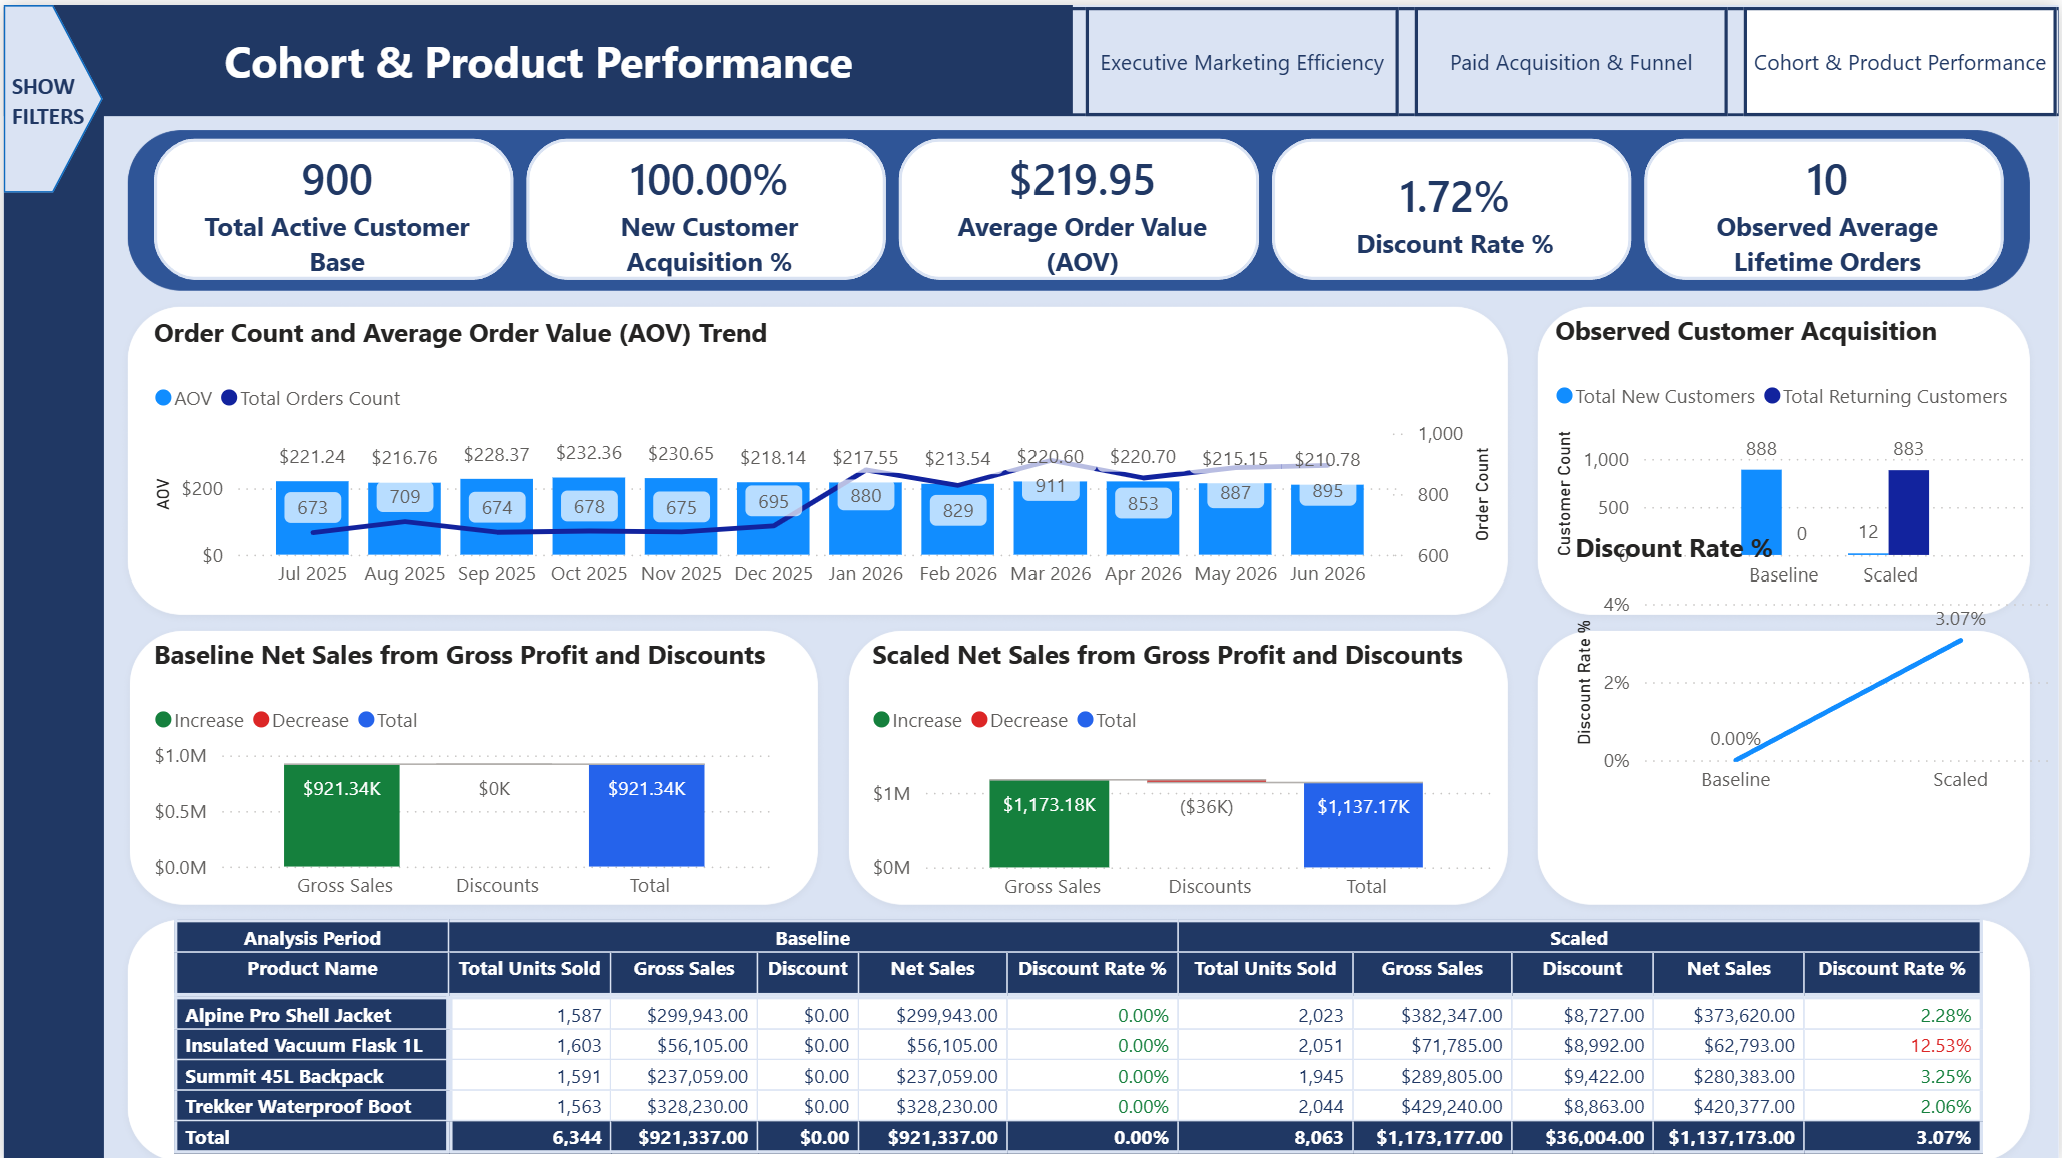

What the dashboard file says about the page in this screenshot:
{"tool":"powerbi","page":{"name":"Cohort & Product Performance","canvas":[1280,720],"ordinal":2},"visuals":[{"type":"clusteredColumnChart","title":"Observed Customer Acquisition","fields":{"Category":["dim_calendar.Analysis Period"],"Y":["_Measures.Total New Customers Acquired","_Measures.Total Returning Customers"]},"box":[961.4,191.4,305.7,181.4],"z":0},{"type":"shape","title":"Rectangle","box":[0,0,62.5,720],"z":1000,"group":"g1"},{"type":"shape","box":[0,0,61.8,117],"z":2000,"group":"g1"},{"type":"shape","title":"top divider box","box":[0,1.6,1281.6,68.2],"z":2000},{"type":"pageNavigator","box":[674.3,1.4,605.7,68.6],"z":3000},{"type":"textbox","box":[0,35.7,78.6,61.4],"z":3000,"group":"g1"},{"type":"actionButton","box":[0,0,61.8,117],"z":4000,"group":"g1"},{"type":"shape","title":"title","box":[1.4,0,664.3,68.6],"z":4000},{"type":"pivotTable","fields":{"Columns":["dim_calendar.Analysis Period"],"Rows":["dim_products.product_name"],"Values":["_Measures.Total Units Sold","_Measures.Gross Sales","_Measures.Total Discount Amount","_Measures.Net Sales","_Measures.Discount Rate %"]},"box":[101.2,565,1138.8,155],"z":4500},{"type":"lineClusteredColumnComboChart","title":"Order Count and Average Order Value (AOV) Trend","fields":{"Category":["dim_calendar.month_year"],"Y":["_Measures.Average Order Value (AOV)"],"Y2":["_Measures.Total Orders Count"]},"box":[88.6,192.9,842.9,180],"z":4750},{"type":"waterfallChart","title":"Scaled Net Sales from Gross Profit and Discounts","fields":{"Category":["_discount_waterfall_structure.StepName"],"Y":["_Measures.Discount Waterfall Value"]},"box":[536.2,392.5,395.7,174.3],"z":4875},{"type":"waterfallChart","title":"Baseline Net Sales from Gross Profit and Discounts","fields":{"Category":["_discount_waterfall_structure.StepName"],"Y":["_Measures.Discount Waterfall Value"]},"box":[88.8,392.5,395,173.8],"z":4937},{"type":"lineChart","title":"Discount Rate %","fields":{"Category":["dim_calendar.Analysis Period"],"Y":["_Measures.Discount Rate %"]},"box":[961.2,392.5,306.2,173.8],"z":4968},{"type":"cardVisual","fields":{"Data":["_Measures.Total Active Customer Base","_Measures.New Customer Acquisition %","_Measures.Average Order Value (AOV)","_Measures.Discount Rate %","_Measures.Observed Average Lifetime Orders"]},"box":[88.6,81.4,1165.7,92.9],"z":4984},{"type":"group","id":"g1","title":"Collapsed Slicer Pane","box":[0,0,78.8,720],"z":5000}]}

Visuals, with their boxes in screenshot pixels (x1, y1, x2, y2), scaled from the page's 1280x720 canvas onto the 2062x1158 screenshot:
"Observed Customer Acquisition" clusteredColumnChart: [1549, 308, 2041, 600]
"Rectangle" shape: [0, 0, 101, 1157]
shape: [0, 0, 100, 188]
"top divider box" shape: [0, 3, 2061, 112]
pageNavigator: [1086, 2, 2061, 113]
textbox: [0, 57, 127, 156]
actionButton: [0, 0, 100, 188]
"title" shape: [2, 0, 1072, 110]
pivotTable - dim_calendar.Analysis Period x dim_products.product_name: [163, 909, 1998, 1157]
"Order Count and Average Order Value (AOV) Trend" lineClusteredColumnComboChart: [143, 310, 1501, 600]
"Scaled Net Sales from Gross Profit and Discounts" waterfallChart: [864, 631, 1501, 912]
"Baseline Net Sales from Gross Profit and Discounts" waterfallChart: [143, 631, 779, 911]
"Discount Rate %" lineChart: [1548, 631, 2042, 911]
cardVisual - _Measures.Total Active Customer Base x _Measures.New Customer Acquisition %: [143, 131, 2021, 280]
"Collapsed Slicer Pane" group: [0, 0, 127, 1157]
